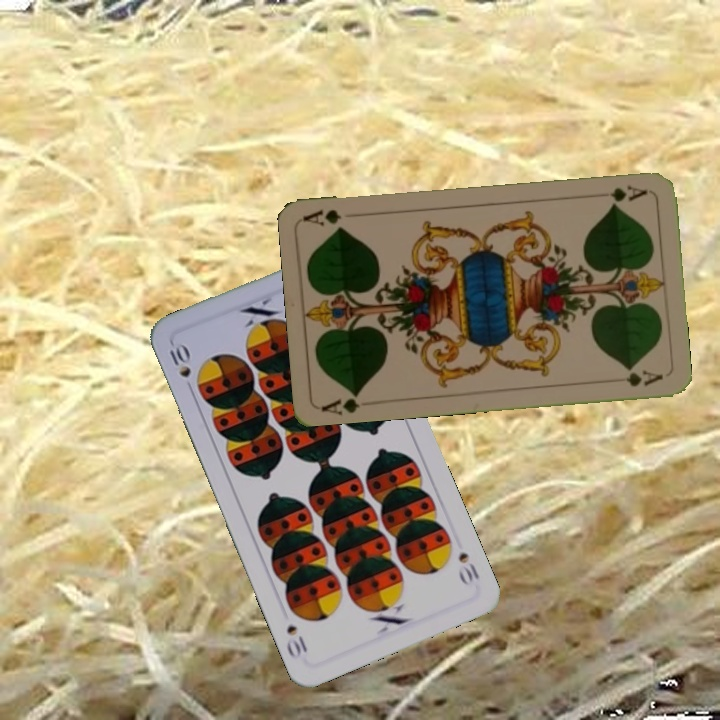GA: (591, 181, 650, 207), (318, 387, 364, 416)
S10: (165, 338, 196, 396), (454, 547, 482, 589)
